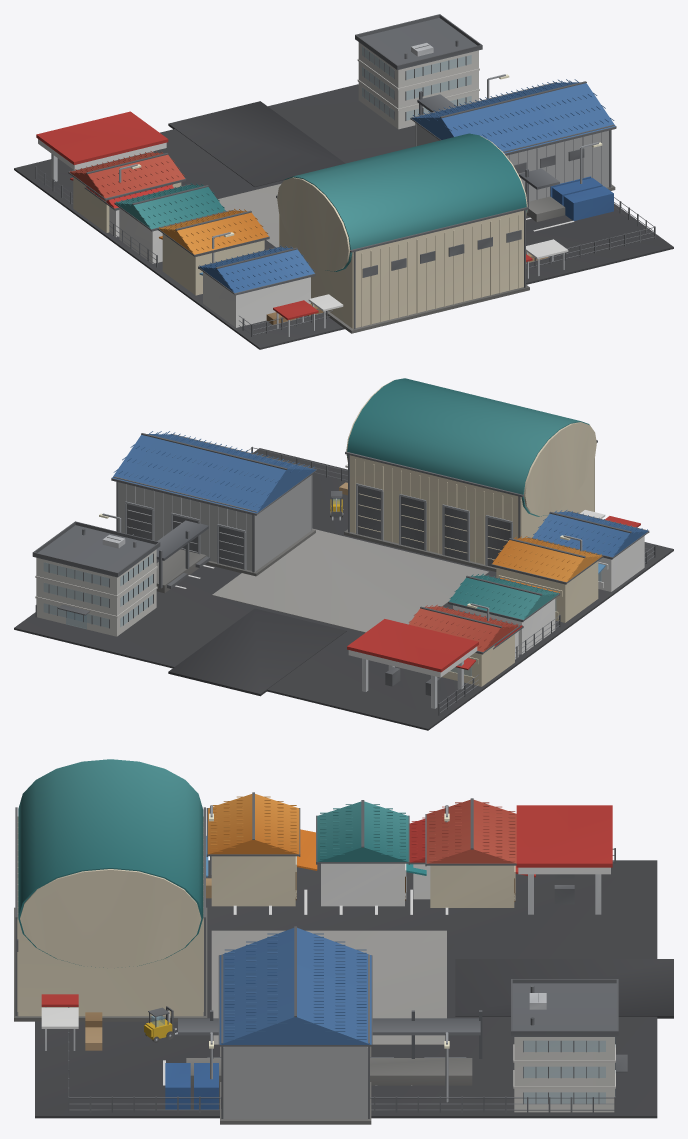
The model's file is Market_P3.fbx.
The picture shows the model from 3 angles, top to bottom: view 1: azimuth 30°, elevation 25°; view 2: azimuth 150°, elevation 25°; view 3: azimuth 270°, elevation 25°; orthographic projection. The views are drawn at different scales.
Parts seen in each view (by area): view 1: Market.WH1, Market.Pad, Market.WH2, Market.Office, Market.Shop3, Market.Shop2, Market.Fuel, Market.Shop0, Market.Shop1, Market.Stalls, Market.Goods, Market.Dock (+2 smaller); view 2: Market.Pad, Market.WH1, Market.WH2, Market.Office, Market.Fuel, Market.Shop2, Market.Shop3, Market.Shop1, Market.Shop0, Market.Dock, Market.Fence; view 3: Market.Pad, Market.WH1, Market.WH2, Market.Office, Market.Shop2, Market.Shop0, Market.Shop1, Market.Fuel, Market.Dock, Market.Fence, Market.Goods, Market.Stalls (+2 smaller).
Part boxes in pixels (box(x1,y1,x2,y2)): Market.WH1: box(276, 133, 529, 333); Market.Pad: box(14, 84, 673, 349); Market.WH2: box(410, 79, 616, 201); Market.Office: box(355, 14, 482, 129); Market.Shop3: box(198, 245, 315, 327); Market.Shop2: box(157, 208, 269, 295); Market.Fuel: box(36, 111, 168, 181); Market.Shop0: box(68, 151, 186, 232); Market.Shop1: box(114, 183, 226, 263); Market.Stalls: box(266, 239, 568, 336); Market.Goods: box(550, 176, 613, 220); Market.Dock: box(417, 91, 565, 221); Market.Pad: box(14, 448, 673, 730); Market.WH1: box(344, 378, 597, 571); Market.WH2: box(111, 431, 317, 576); Market.Office: box(32, 521, 160, 636); Market.Fuel: box(347, 619, 478, 708); Market.Shop2: box(491, 536, 603, 622); Market.Shop3: box(532, 510, 649, 591); Market.Shop1: box(448, 573, 560, 654); Market.Shop0: box(409, 604, 519, 686); Market.Dock: box(156, 520, 210, 593); Market.Fence: box(35, 446, 655, 715); Market.Pad: box(35, 860, 673, 1118); Market.WH1: box(14, 759, 207, 1021); Market.WH2: box(218, 926, 372, 1124); Market.Office: box(511, 979, 627, 1112); Market.Shop2: box(206, 792, 317, 906); Market.Shop0: box(425, 798, 535, 907); Market.Shop1: box(316, 800, 426, 906); Market.Fuel: box(516, 805, 612, 914); Market.Dock: box(178, 1010, 482, 1085); Market.Fence: box(68, 848, 615, 1112); Market.Goods: box(165, 878, 218, 1109); Market.Stalls: box(41, 994, 102, 1050).
Size of the model in its own units: 7474 by 2041 by 7850.
